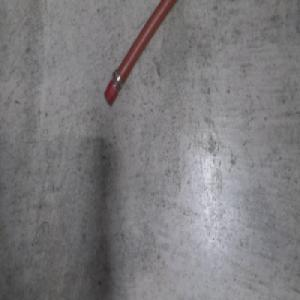Hose: (105, 0, 188, 110)
